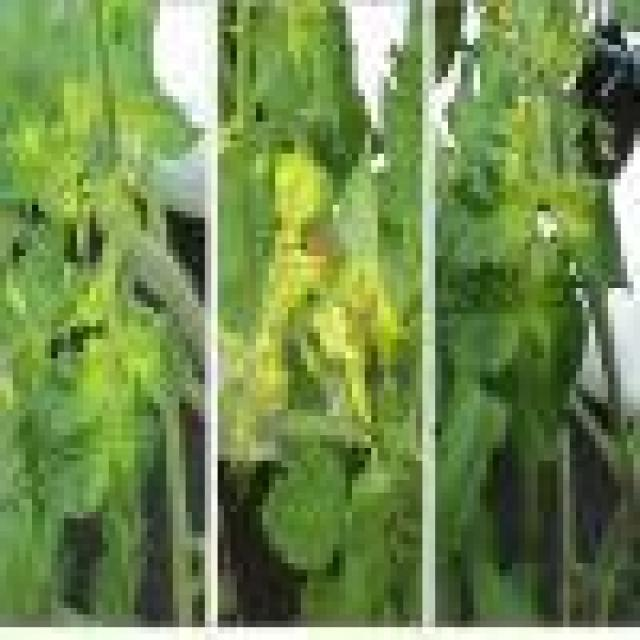Healthy Leaf: (436, 166, 550, 269), (556, 160, 634, 307), (26, 326, 109, 448), (115, 77, 205, 173), (269, 134, 339, 230), (122, 320, 192, 416)
